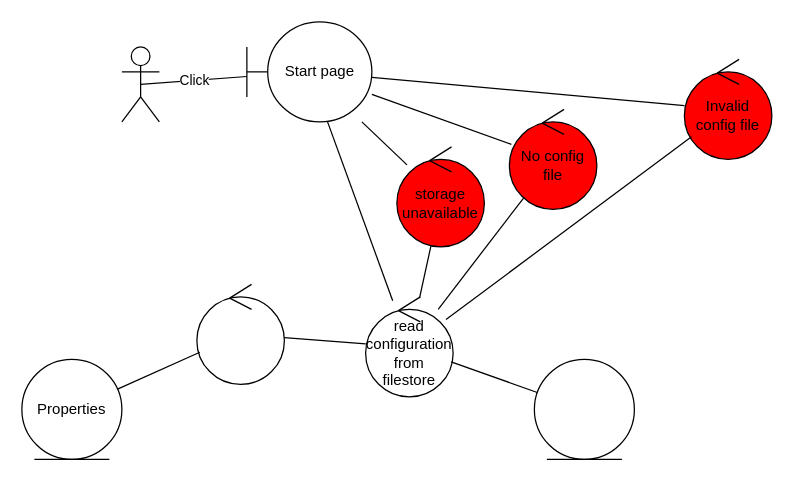
Image size: 794x481. Some labels were removed from this diagram. Each missing label, with the centre of its shape:
"save to properties" belongs at (240,333).
"Storage" belongs at (583,408).
"User" belongs at (140,84).
